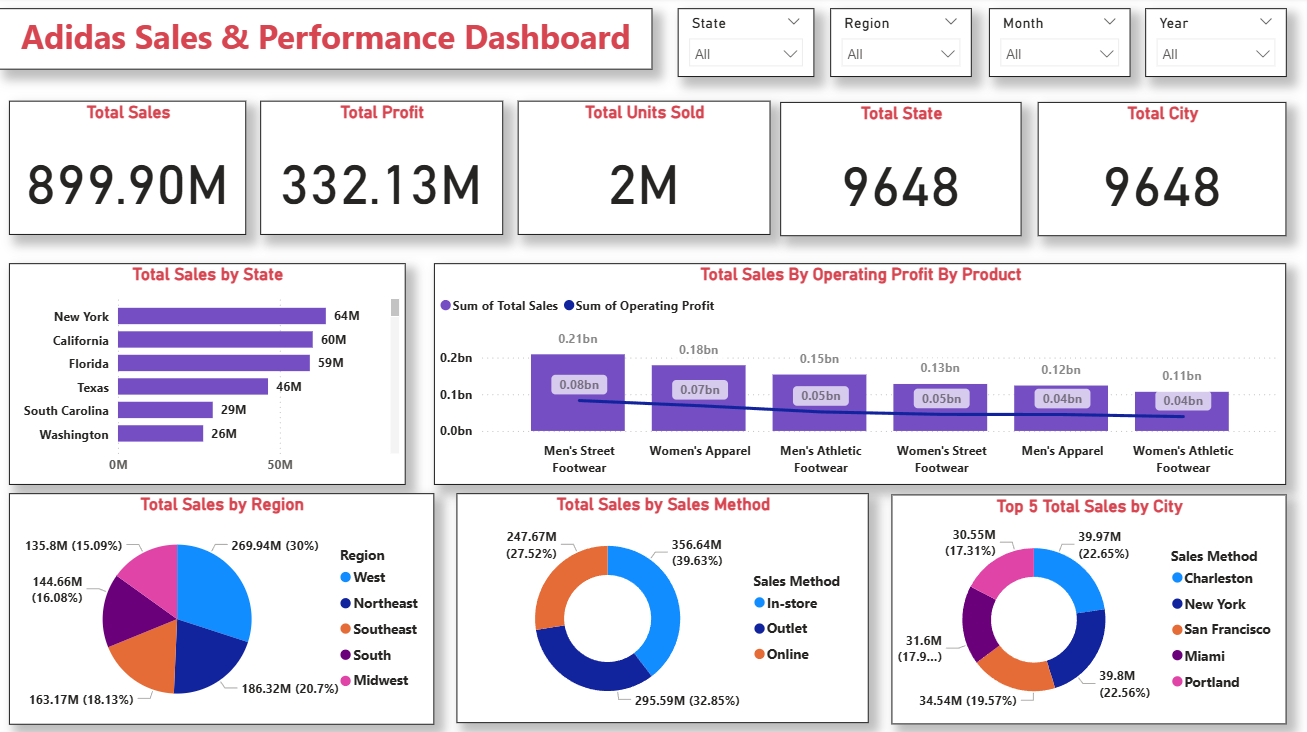

What the dashboard file says about the page in this screenshot:
{"tool":"powerbi","page":{"name":"Page 1","canvas":[1280,720],"ordinal":0},"visuals":[{"type":"textbox","box":[0,11,639.5,59.9],"z":0},{"type":"slicer","fields":{"Values":["Data Sales Adidas.State"]},"box":[664,11,133.3,67.3],"z":1000},{"type":"slicer","fields":{"Values":["Data Sales Adidas.Region"]},"box":[813.2,11,138.2,67.3],"z":2000},{"type":"slicer","fields":{"Values":["Data Sales Adidas.Invoice Date.Variation.Date Hierarchy.Month"]},"box":[968.5,11,138.2,67.3],"z":3000},{"type":"slicer","fields":{"Values":["Data Sales Adidas.Invoice Date.Variation.Date Hierarchy.Year"]},"box":[1121.3,11,138.2,67.3],"z":4000},{"type":"card","title":"Total Sales","fields":{"Values":["Sum(Data Sales Adidas.Total Sales)"]},"box":[9.8,101.5,232.3,130.8],"z":5000},{"type":"card","title":"Total Profit","fields":{"Values":["Sum(Data Sales Adidas.Operating Profit)"]},"box":[255.6,101.5,237.2,130.8],"z":6000},{"type":"card","title":"Total Units Sold","fields":{"Values":["Sum(Data Sales Adidas.Units Sold)"]},"box":[507.5,101.5,247,130.8],"z":7000},{"type":"card","title":"Total State","fields":{"Values":["CountNonNull(Data Sales Adidas.State)"]},"box":[764.3,102.7,236,130.8],"z":8000},{"type":"barChart","title":"Total Sales by State","fields":{"Y":["Sum(Data Sales Adidas.Total Sales)"],"Category":["Data Sales Adidas.State"]},"box":[9.8,260.5,387.6,216.4],"z":9000},{"type":"card","title":"Total City","fields":{"Values":["CountNonNull(Data Sales Adidas.City)"]},"box":[1016.2,102.7,243.3,130.8],"z":10000},{"type":"lineClusteredColumnComboChart","title":" Total Sales  By Operating Profit By Product","fields":{"Y":["Sum(Data Sales Adidas.Total Sales)"],"Category":["Data Sales Adidas.Product"],"Y2":["Sum(Data Sales Adidas.Operating Profit)"]},"box":[425.5,260.5,834,216.4],"z":11000},{"type":"pieChart","title":"Total Sales by Region","fields":{"Y":["Sum(Data Sales Adidas.Total Sales)"],"Category":["Data Sales Adidas.Region"]},"box":[9.8,485.5,415.8,226.2],"z":12000},{"type":"donutChart","title":"Total Sales by Sales Method","fields":{"Y":["Sum(Data Sales Adidas.Total Sales)"],"Category":["Data Sales Adidas.Sales Method"]},"box":[447.6,485.5,403.5,225],"z":13000},{"type":"donutChart","title":"Top 5 Total Sales by City ","fields":{"Y":["Sum(Data Sales Adidas.Total Sales)"],"Category":["Data Sales Adidas.City"]},"box":[873.1,486.7,386.4,225],"z":14000}]}

Visuals, with their boxes in screenshot pixels (x1, y1, x2, y2), scaled from the page's 1280x720 canvas onto the 1307x732 screenshot:
textbox: (x1=0, y1=11, x2=653, y2=72)
slicer - Data Sales Adidas.State: (x1=678, y1=11, x2=814, y2=80)
slicer - Data Sales Adidas.Region: (x1=830, y1=11, x2=971, y2=80)
slicer - Data Sales Adidas.Invoice Date.Variation.Date Hierarchy.Month: (x1=989, y1=11, x2=1130, y2=80)
slicer - Data Sales Adidas.Invoice Date.Variation.Date Hierarchy.Year: (x1=1145, y1=11, x2=1286, y2=80)
"Total Sales" card: (x1=10, y1=103, x2=247, y2=236)
"Total Profit" card: (x1=261, y1=103, x2=503, y2=236)
"Total Units Sold" card: (x1=518, y1=103, x2=770, y2=236)
"Total State" card: (x1=780, y1=104, x2=1021, y2=237)
"Total Sales by State" barChart: (x1=10, y1=265, x2=406, y2=485)
"Total City" card: (x1=1038, y1=104, x2=1286, y2=237)
" Total Sales  By Operating Profit By Product" lineClusteredColumnComboChart: (x1=434, y1=265, x2=1286, y2=485)
"Total Sales by Region" pieChart: (x1=10, y1=494, x2=435, y2=724)
"Total Sales by Sales Method" donutChart: (x1=457, y1=494, x2=869, y2=722)
"Top 5 Total Sales by City " donutChart: (x1=892, y1=495, x2=1286, y2=724)
